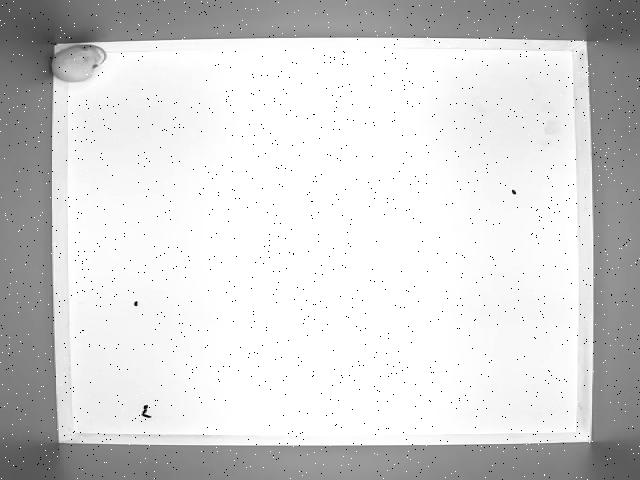Tikus: (50, 42, 110, 84)
